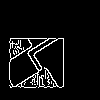L: (25, 25, 79, 73)
